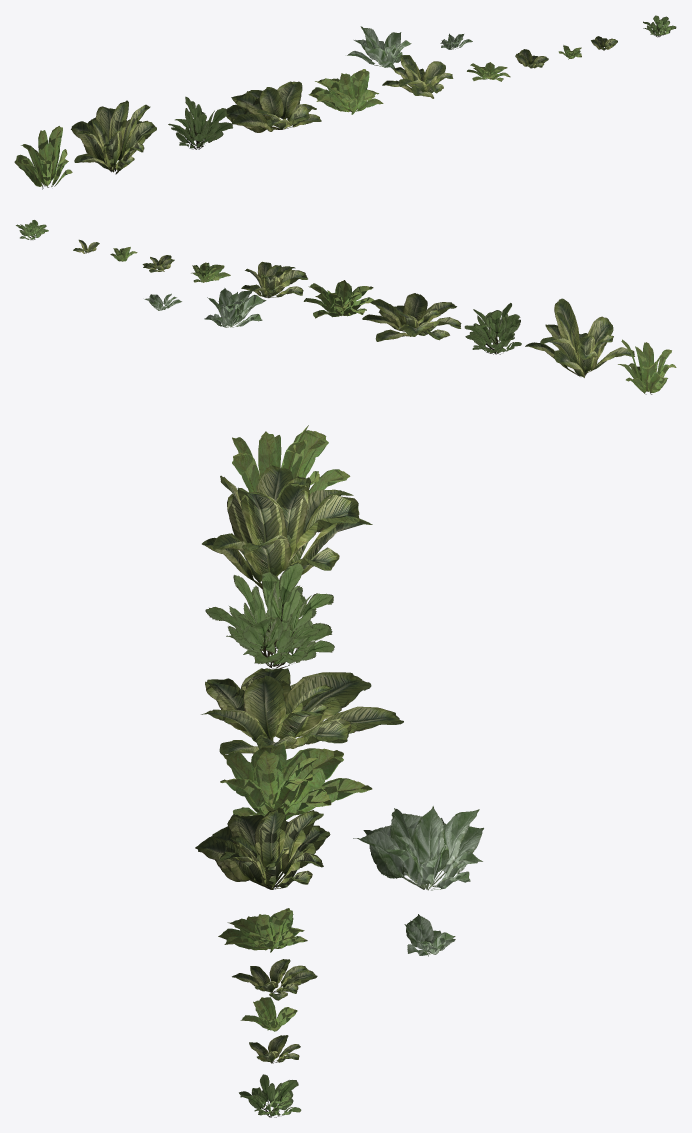
File: Plants A.fbx
3 renders of one model, top to bottom at view 1: azimuth 30°, elevation 25°; view 2: azimuth 150°, elevation 25°; view 3: azimuth 270°, elevation 25°, orthographic. The views are drawn at different scales.
Visible parts, largest first — view 1: Plant_Tall_1A2, Plant_Bushy_1A1, Plant_Bushy_1A1.001, Plant_Tall_1A2.001, Plant_Tall_1A1, Plant_Bushy_1A2, Plant_Tall_1A3, Plant_Bushy_1A3.001, Plant_Bushy_1A2.001, Plant_Tall_1A3.001, Plant_Bushy_1A4.001, Plant_Bushy_1A3 (+6 smaller); view 2: Plant_Tall_1A2, Plant_Tall_1A2.001, Plant_Bushy_1A1, Plant_Bushy_1A1.001, Plant_Tall_1A3, Plant_Tall_1A3.001, Plant_Tall_1A1.001, Plant_Bushy_1A2, Plant_Bushy_1A2.001, Plant_Bushy_1A4, Plant_Bushy_1A3, Plant_Bushy_1A3.001 (+5 smaller); view 3: Plant_Bushy_1A1, Plant_Tall_1A2, Plant_Tall_1A2.001, Plant_Bushy_1A1.001, Plant_Tall_1A3, Plant_Bushy_1A3, Plant_Bushy_1A2, Plant_Bushy_1A4, Plant_Bushy_1A3.001, Plant_Tall_1A3.001, Plant_Bushy_1A2.001, Plant_Bushy_1A4.001 (+7 smaller).
Part boxes in pixels (x1=…): Plant_Tall_1A2: x1=71, y1=101, x2=156, y2=171; Plant_Bushy_1A1: x1=226, y1=81, x2=320, y2=132; Plant_Bushy_1A1.001: x1=226, y1=81, x2=321, y2=132; Plant_Tall_1A2.001: x1=71, y1=100, x2=156, y2=174; Plant_Tall_1A1: x1=14, y1=126, x2=72, y2=187; Plant_Bushy_1A2: x1=309, y1=70, x2=382, y2=114; Plant_Tall_1A3: x1=168, y1=96, x2=232, y2=149; Plant_Bushy_1A3.001: x1=383, y1=55, x2=452, y2=98; Plant_Bushy_1A2.001: x1=309, y1=69, x2=383, y2=114; Plant_Tall_1A3.001: x1=168, y1=98, x2=232, y2=149; Plant_Bushy_1A4.001: x1=347, y1=26, x2=410, y2=68; Plant_Bushy_1A3: x1=382, y1=55, x2=453, y2=98; Plant_Tall_1A2: x1=525, y1=300, x2=634, y2=376; Plant_Tall_1A2.001: x1=527, y1=298, x2=634, y2=377; Plant_Bushy_1A1: x1=364, y1=294, x2=460, y2=341; Plant_Bushy_1A1.001: x1=362, y1=293, x2=461, y2=341; Plant_Tall_1A3: x1=465, y1=303, x2=521, y2=354; Plant_Tall_1A3.001: x1=464, y1=303, x2=521, y2=354; Plant_Tall_1A1.001: x1=618, y1=341, x2=676, y2=394; Plant_Bushy_1A2: x1=304, y1=281, x2=374, y2=318; Plant_Bushy_1A2.001: x1=303, y1=280, x2=373, y2=317; Plant_Bushy_1A4: x1=204, y1=288, x2=265, y2=327; Plant_Bushy_1A3: x1=241, y1=262, x2=307, y2=298; Plant_Bushy_1A3.001: x1=241, y1=261, x2=307, y2=297; Plant_Bushy_1A1: x1=201, y1=668, x2=403, y2=754; Plant_Tall_1A2: x1=202, y1=467, x2=372, y2=587; Plant_Tall_1A2.001: x1=202, y1=465, x2=371, y2=589; Plant_Bushy_1A1.001: x1=204, y1=668, x2=403, y2=754; Plant_Tall_1A3: x1=205, y1=562, x2=334, y2=668; Plant_Bushy_1A3: x1=195, y1=809, x2=330, y2=889; Plant_Bushy_1A2: x1=220, y1=743, x2=372, y2=816; Plant_Bushy_1A4: x1=353, y1=806, x2=483, y2=890; Plant_Bushy_1A3.001: x1=195, y1=808, x2=329, y2=889; Plant_Tall_1A3.001: x1=205, y1=562, x2=334, y2=668; Plant_Bushy_1A2.001: x1=220, y1=744, x2=372, y2=819; Plant_Bushy_1A4.001: x1=354, y1=808, x2=483, y2=890.
Size of the model in its own units: 1367 by 133 by 275.
